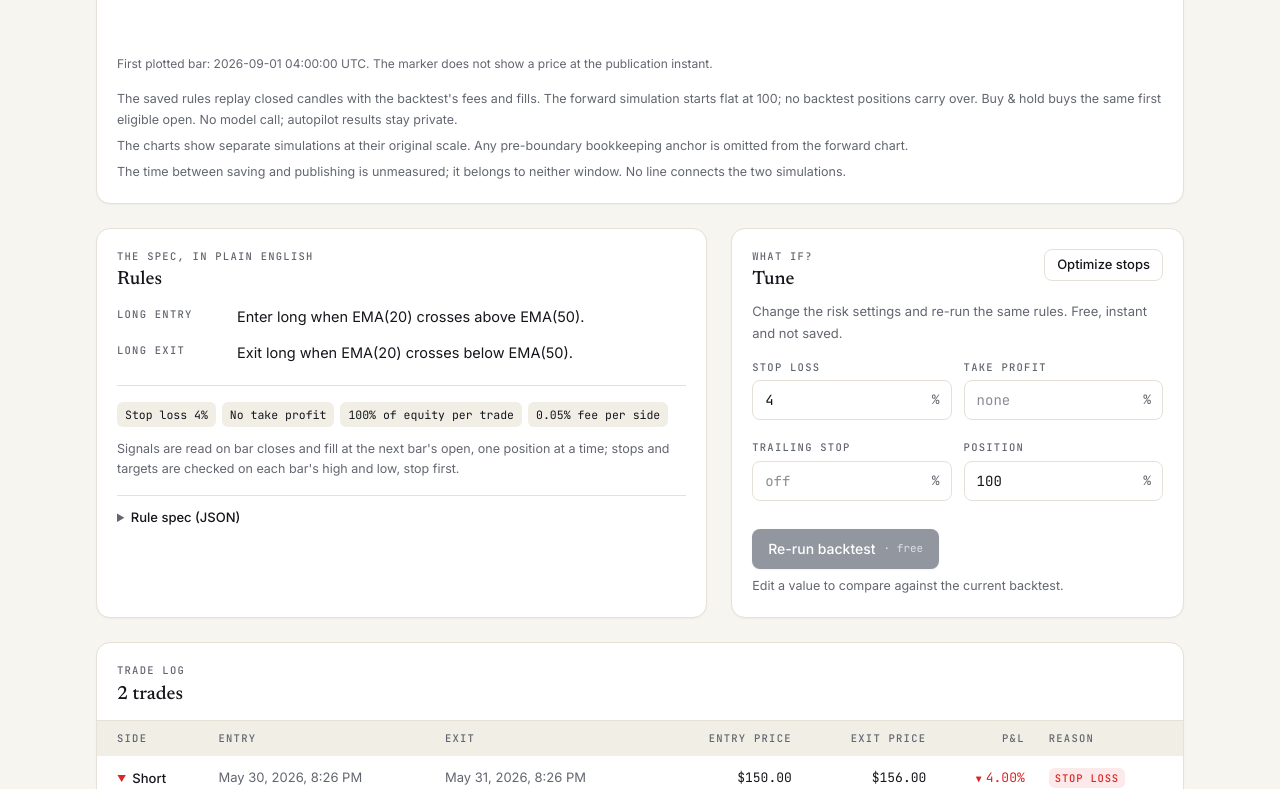
Test: saved forward detail › keeps saved forward immutable through a free retune and reset
(page scrolled)
Replace the text in the field labelled "Stop loss" with "3" at [852, 400], box [752,380,952,420]
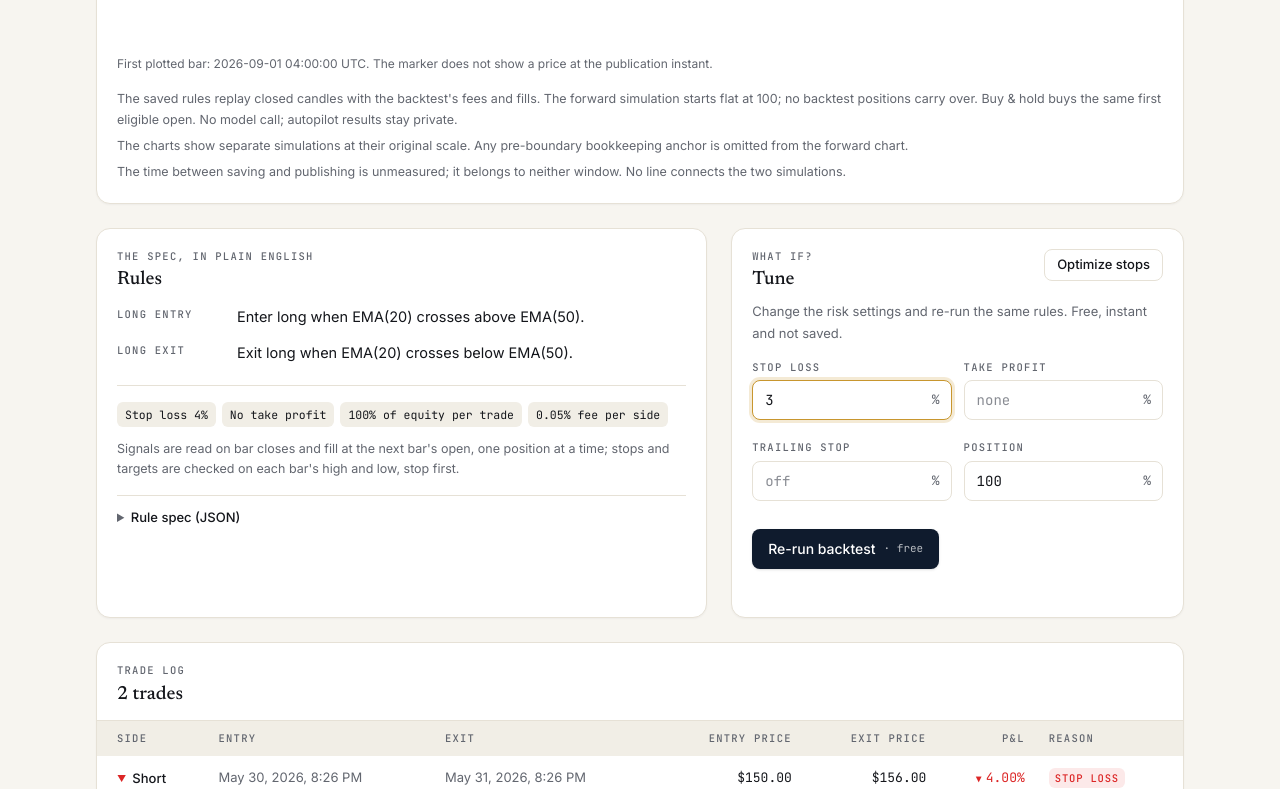
Click the button "Re-run backtest · free".
click(846, 549)  # box [752,529,939,569]
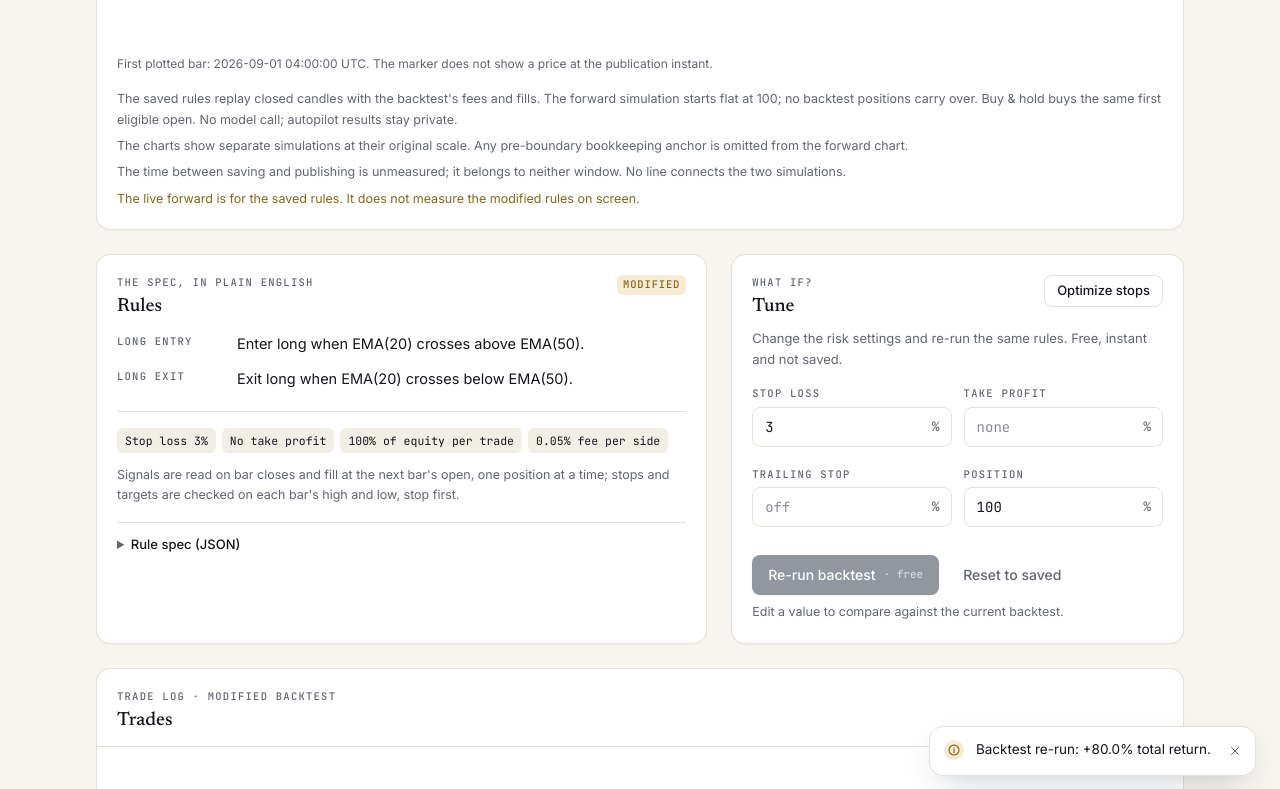
Click the button "Reset to saved".
click(1012, 575)  # box [947,555,1077,595]
(page scrolled)
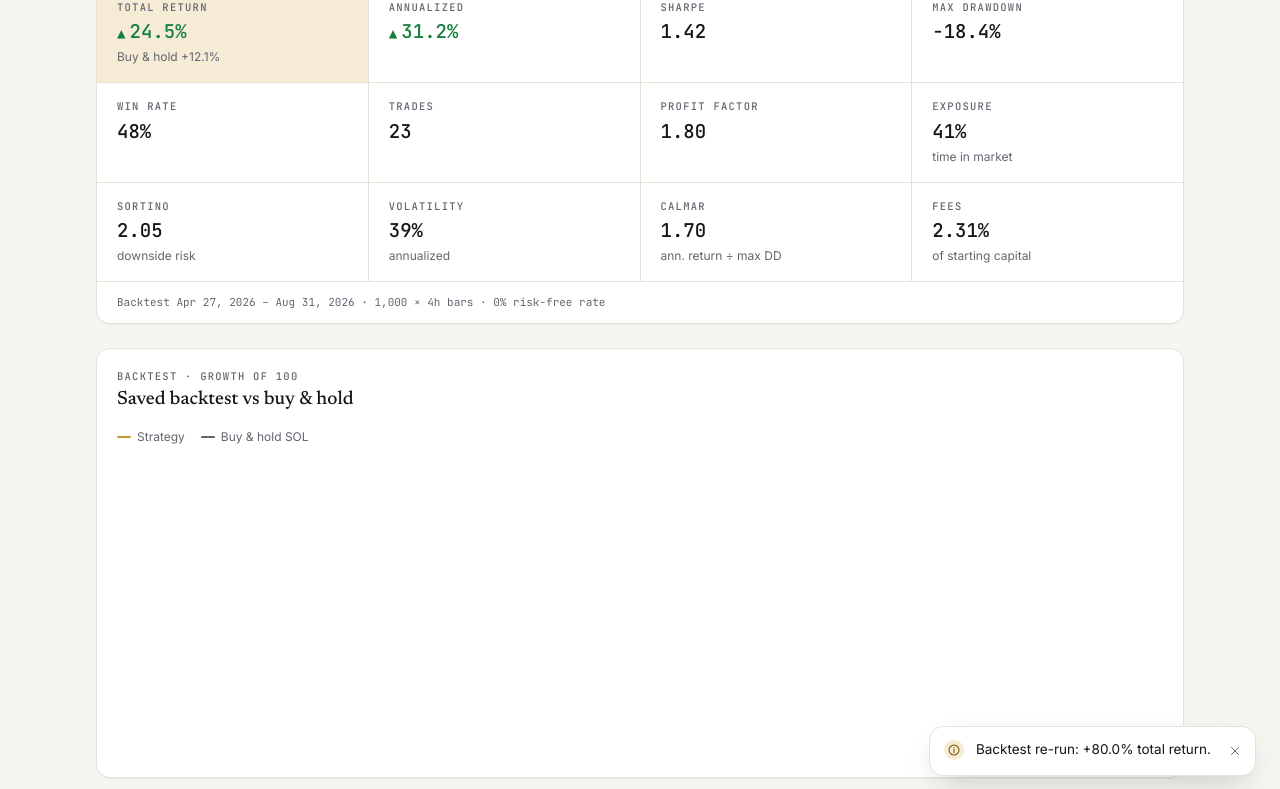
Check: the heading "Saved backtest vs buy & hold" is shown, box [117,387,354,413]
